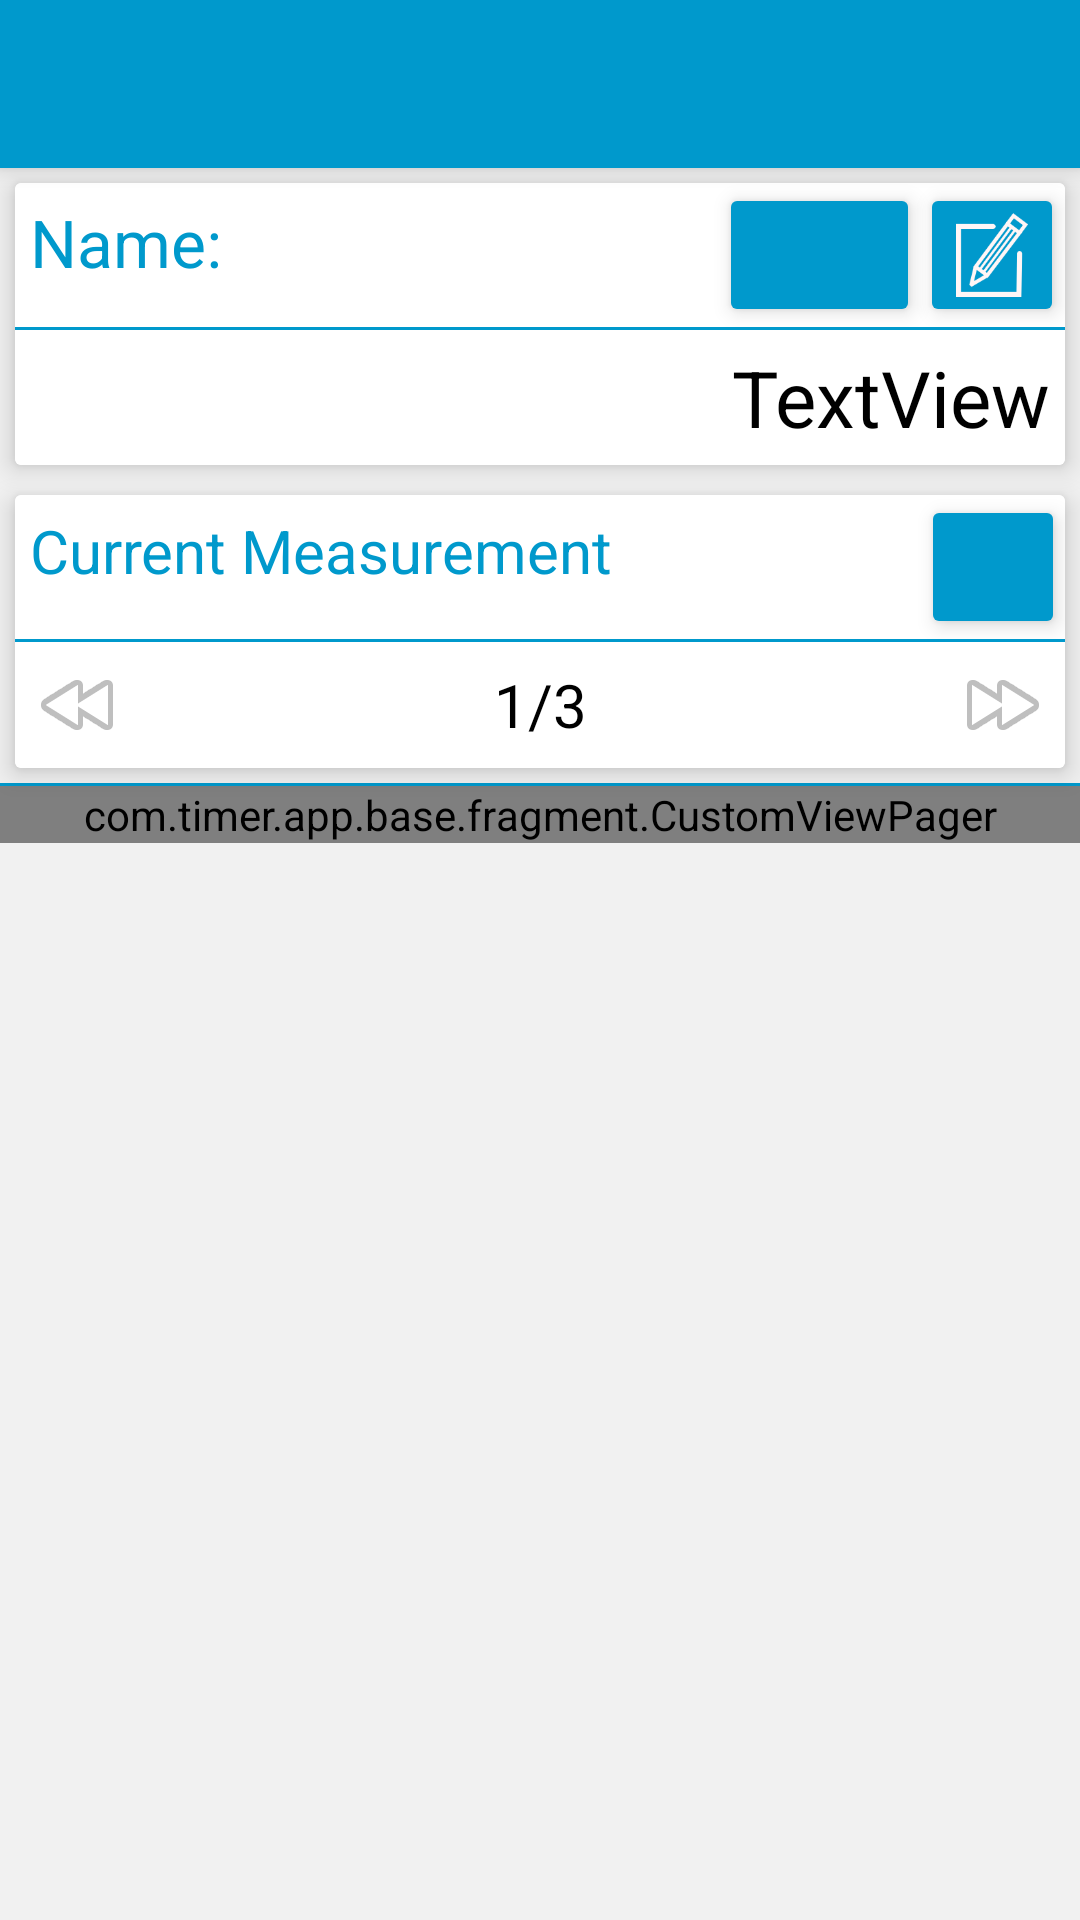

Icon click points for this 1080×1920 phone screenshot, format [x,y]:
edit: [992,255]
rew: [77,705]
